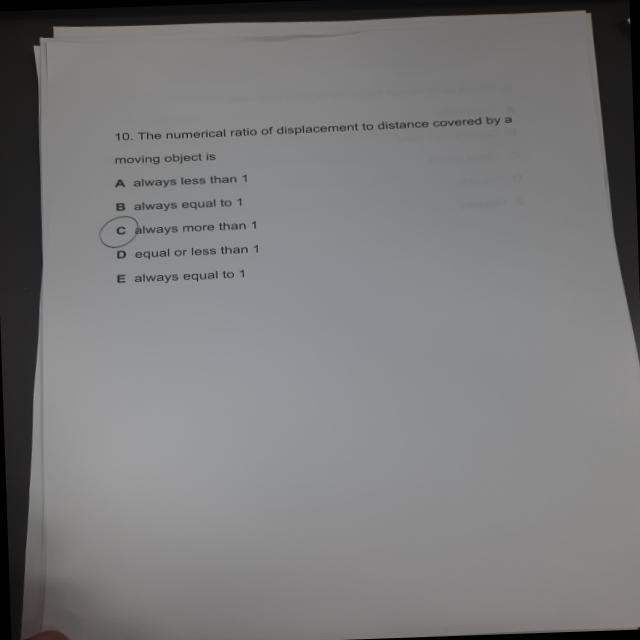C: (93, 213, 143, 251)
